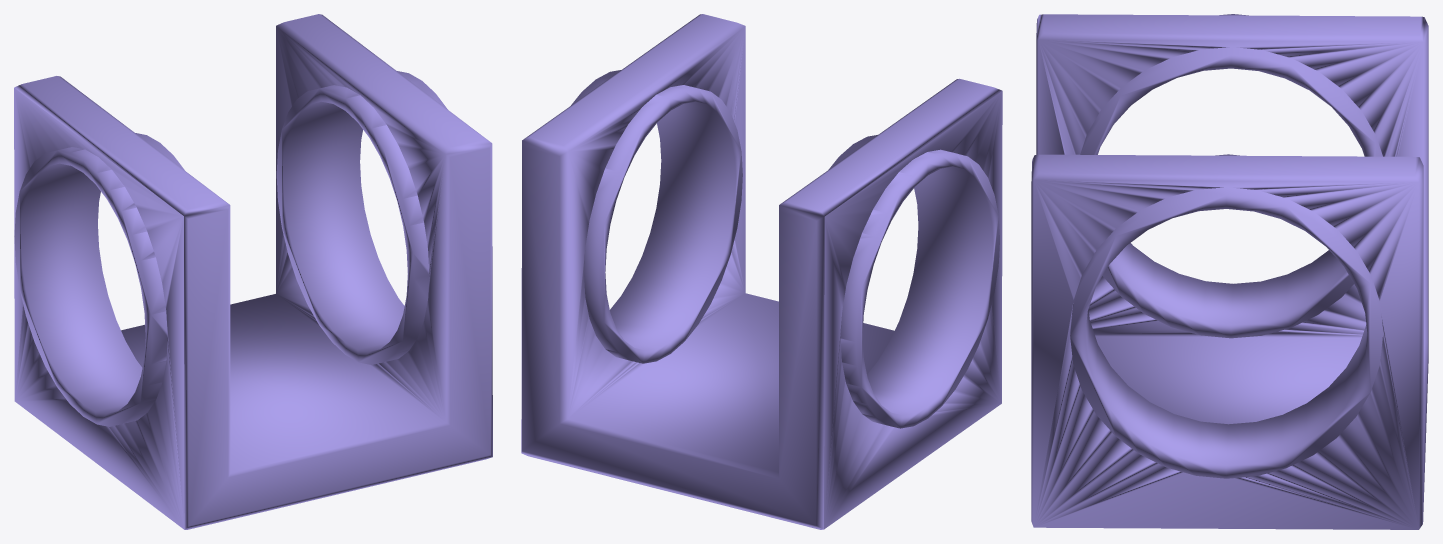
Rendered from scen_III_spir_kostka-U.fbx.
The picture shows the model from 3 angles, left to right: view 1: azimuth 30°, elevation 25°; view 2: azimuth 150°, elevation 25°; view 3: azimuth 270°, elevation 25°; orthographic projection. The views are drawn at different scales.
Parts seen in each view (by area): view 1: spir 02.095; view 2: spir 02.095; view 3: spir 02.095.
Part boxes in pixels (x1,y1,x2,y2): spir 02.095: [14, 14, 492, 529]; spir 02.095: [521, 14, 1002, 529]; spir 02.095: [1031, 14, 1428, 529].
Size of the model in its own units: 222 by 200 by 203.
